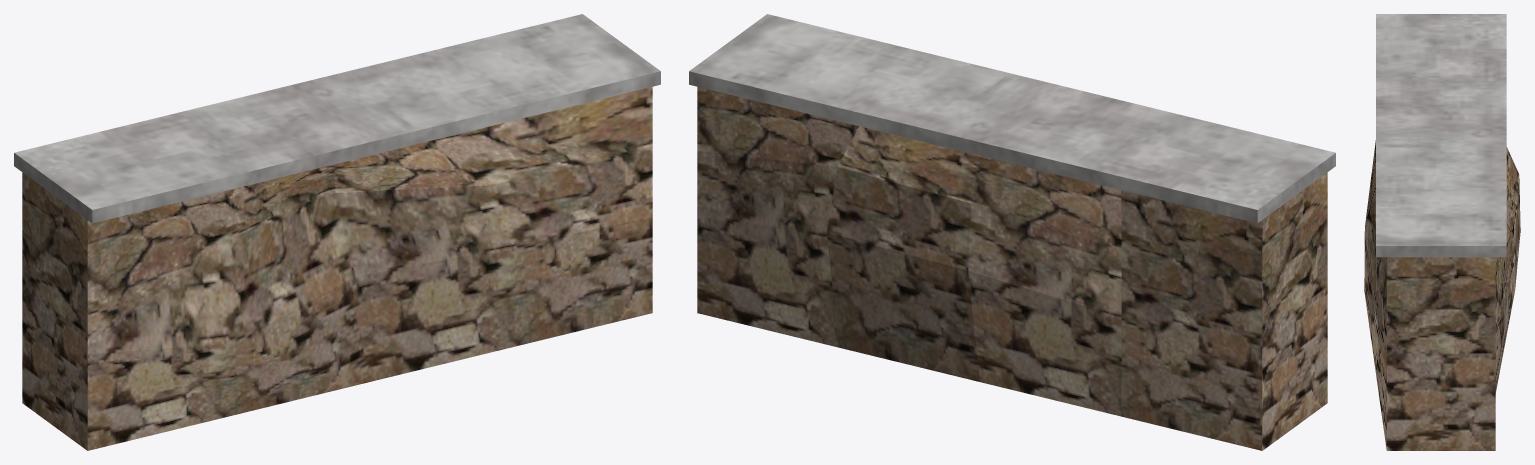
File: Urban_DrystoneWallCapped_Model.fbx
3 renders of one model, left to right at view 1: azimuth 30°, elevation 25°; view 2: azimuth 150°, elevation 25°; view 3: azimuth 270°, elevation 25°, orthographic. The views are drawn at different scales.
Parts seen in each view (by area): view 1: Urban_DrystoneWallCapped_Mesh; view 2: Urban_DrystoneWallCapped_Mesh; view 3: Urban_DrystoneWallCapped_Mesh.
Boxes of the visible parts, left/top/right/bottom form: Urban_DrystoneWallCapped_Mesh: left=14, top=14, right=660, bottom=450; Urban_DrystoneWallCapped_Mesh: left=689, top=14, right=1335, bottom=450; Urban_DrystoneWallCapped_Mesh: left=1364, top=14, right=1520, bottom=450.
Size of the model in its own units: 2.01 by 0.8328 by 0.5729.
